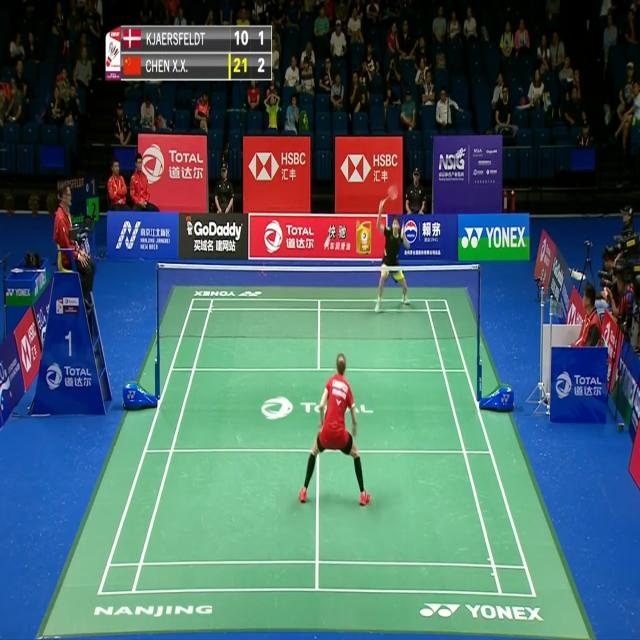Player1: (298, 348, 372, 508)
Player2: (374, 182, 416, 315)
